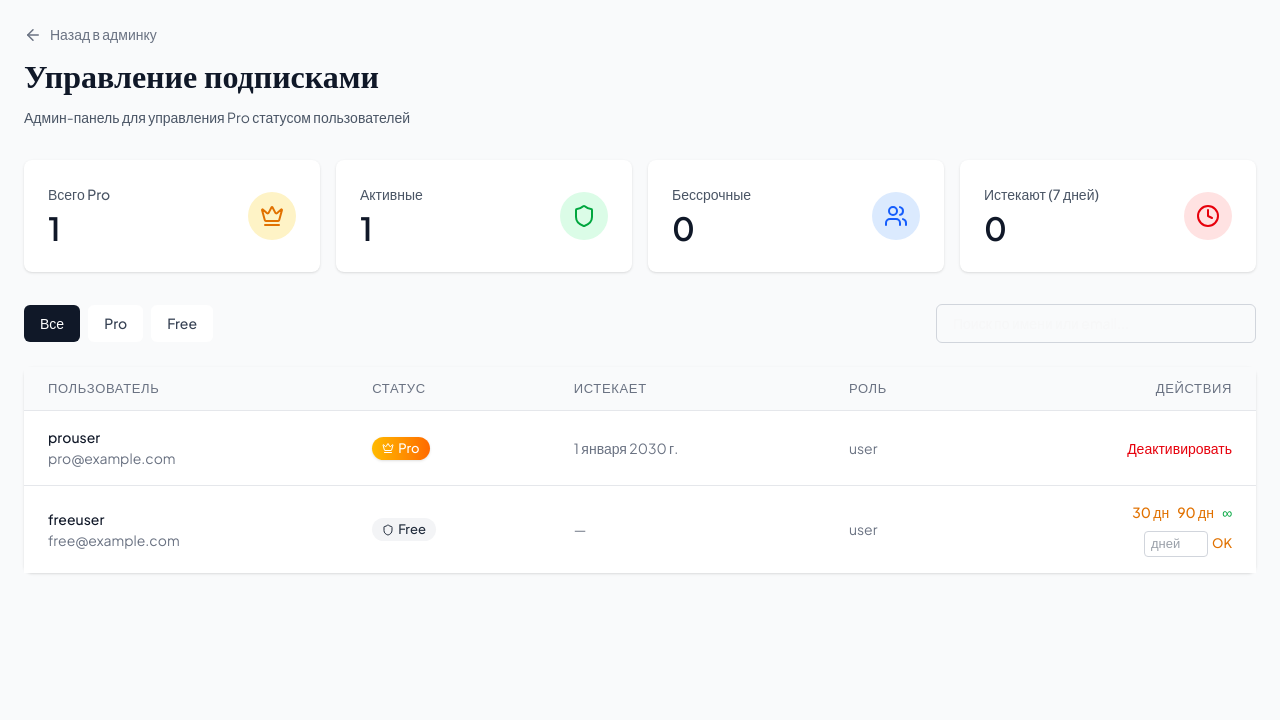
Test case: AdminSubscriptionsPage › фильтрует пользователей по вкладкам статуса
The image size is (1280, 720).
Expected: the text "prouser" is shown, [48,428,100,446]
Expected: the text "freeuser" is shown, [48,510,104,528]
Click the button "Pro": (116, 323) [88,305,143,342]
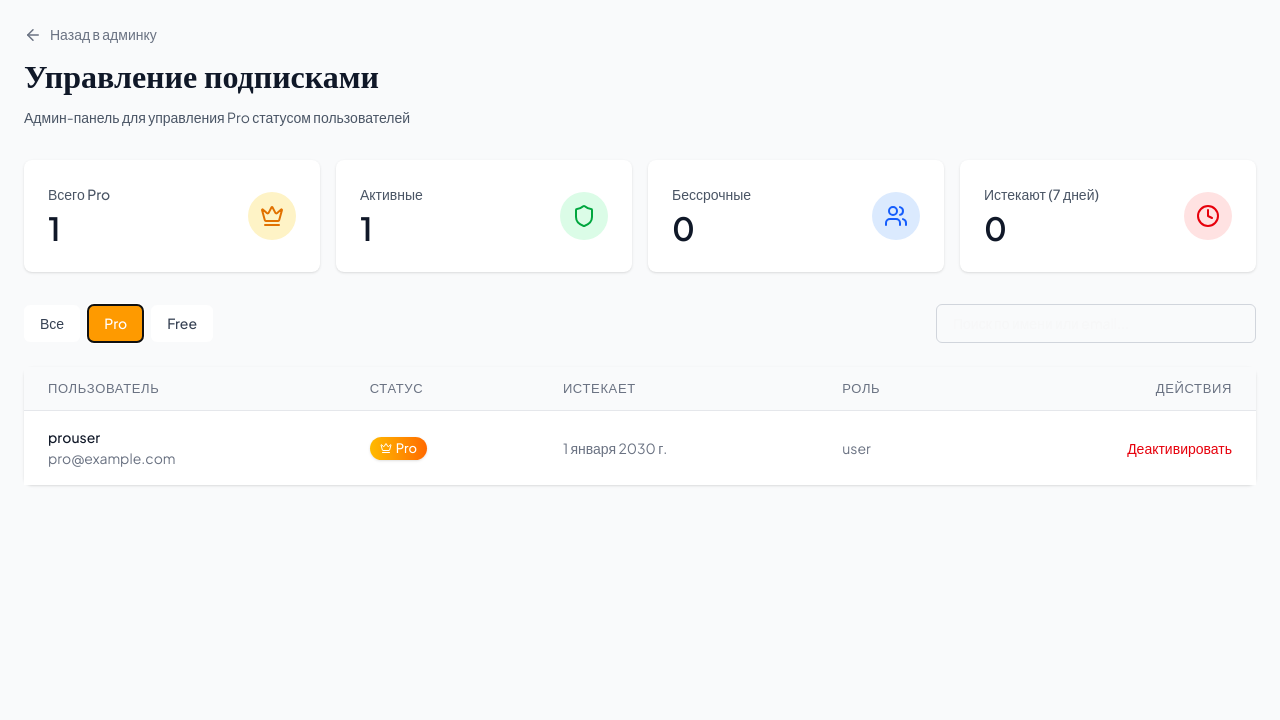
Expected: the text "prouser" is shown, [48,428,100,446]
Result: the text "freeuser" is gone
